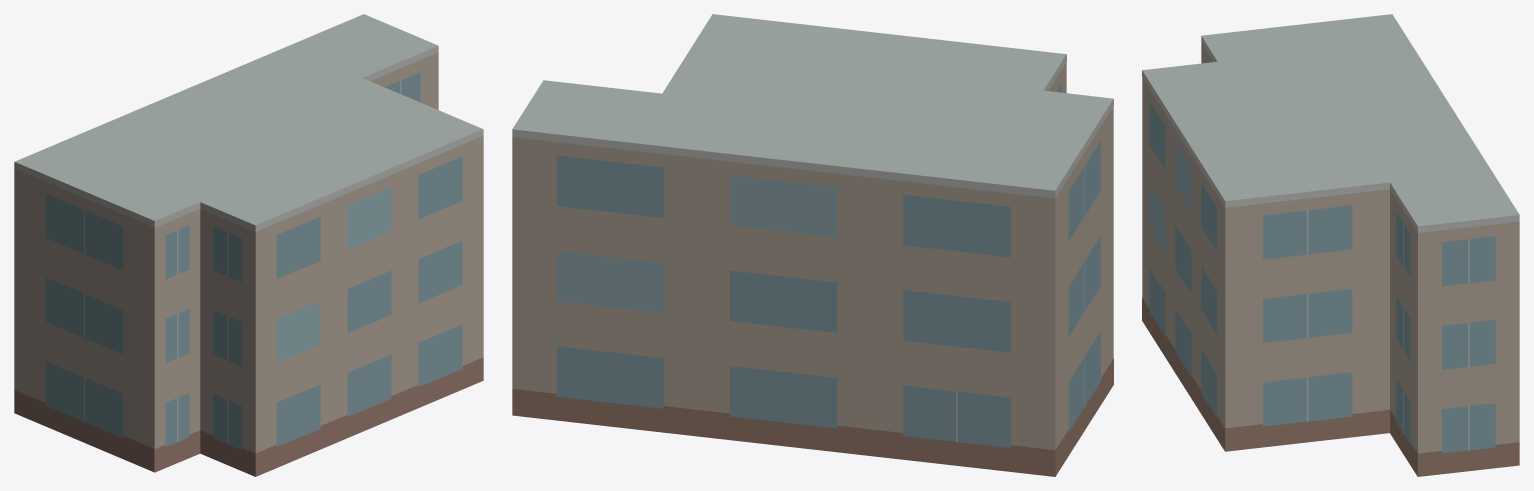
File: residential-af76dfdf-7f95-4239-8bda-dc9f143352a7.glb
3 views of the same model, side by side, from view 1: azimuth 30°, elevation 25°; view 2: azimuth 150°, elevation 25°; view 3: azimuth 270°, elevation 25° (orthographic). The views are drawn at different scales.
Parts seen in each view (by area): view 1: residential-af76dfdf-7f95-4239-8bda-dc9f143352a7.tmp; view 2: residential-af76dfdf-7f95-4239-8bda-dc9f143352a7.tmp; view 3: residential-af76dfdf-7f95-4239-8bda-dc9f143352a7.tmp.
Boxes of the visible parts, box(x1,y1,x2,y2) form: residential-af76dfdf-7f95-4239-8bda-dc9f143352a7.tmp: box(14, 14, 483, 476); residential-af76dfdf-7f95-4239-8bda-dc9f143352a7.tmp: box(512, 14, 1113, 476); residential-af76dfdf-7f95-4239-8bda-dc9f143352a7.tmp: box(1142, 14, 1519, 476).
Bounding box in the file's own units: 16.65 × 9.15 × 12.51.
